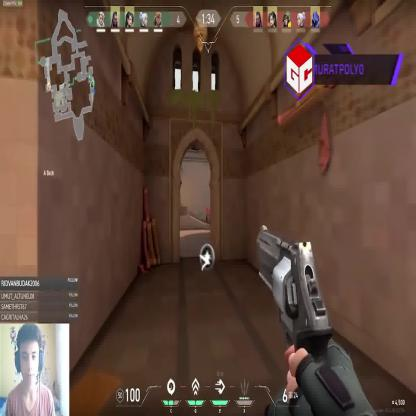enemy: (206, 207, 210, 223)
enemy_head: (206, 207, 209, 211)
